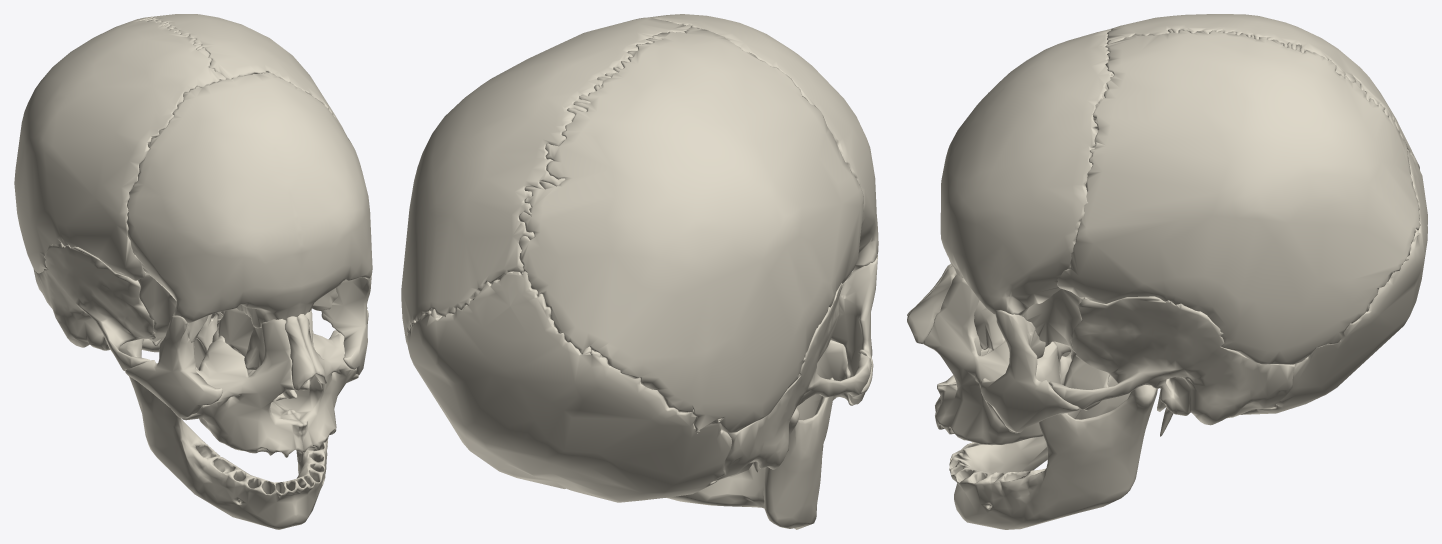
File: skull-z-detail.glb
3 renders of one model, left to right at view 1: azimuth 30°, elevation 25°; view 2: azimuth 150°, elevation 25°; view 3: azimuth 270°, elevation 25°, orthographic. The views are drawn at different scales.
Visible parts, largest first — view 1: b|frontal, b|parietal_right, b|mandible, b|maxilla_right, b|temporal_right, b|parietal_left, b|zygomatic_right, b|maxilla_left, b|sphenoid, b|zygomatic_left, b|nasal_right, b|ethmoid (+2 smaller); view 2: b|parietal_right, b|occipital, b|parietal_left, b|frontal, b|mandible, b|temporal_right, b|zygomatic_right, b|maxilla_right; view 3: b|parietal_left, b|frontal, b|temporal_left, b|mandible, b|maxilla_left, b|occipital, b|parietal_right, b|zygomatic_left, b|sphenoid, b|nasal_left, b|lacrimal_left.
Part boxes in pixels (bbox=[...]): b|frontal: bbox=[127, 72, 372, 328]; b|parietal_right: bbox=[14, 17, 226, 280]; b|mandible: bbox=[118, 308, 328, 529]; b|maxilla_right: bbox=[182, 319, 303, 457]; b|temporal_right: bbox=[33, 242, 155, 371]; b|parietal_left: bbox=[140, 14, 360, 166]; b|zygomatic_right: bbox=[125, 315, 222, 418]; b|maxilla_left: bbox=[273, 310, 358, 452]; b|sphenoid: bbox=[138, 272, 337, 369]; b|zygomatic_left: bbox=[321, 274, 371, 375]; b|nasal_right: bbox=[285, 316, 315, 390]; b|ethmoid: bbox=[218, 308, 261, 356]; b|parietal_right: bbox=[518, 27, 863, 433]; b|occipital: bbox=[407, 271, 731, 502]; b|parietal_left: bbox=[401, 17, 690, 344]; b|frontal: bbox=[648, 14, 878, 271]; b|mandible: bbox=[666, 377, 834, 529]; b|temporal_right: bbox=[714, 282, 871, 481]; b|zygomatic_right: bbox=[830, 255, 877, 404]; b|maxilla_right: bbox=[797, 340, 854, 420]; b|parietal_left: bbox=[1057, 29, 1420, 364]; b|frontal: bbox=[940, 29, 1114, 315]; b|temporal_left: bbox=[1049, 296, 1295, 436]; b|mandible: bbox=[949, 375, 1157, 529]; b|maxilla_left: bbox=[923, 274, 1060, 445]; b|occipital: bbox=[1240, 149, 1427, 414]; b|parietal_right: bbox=[1098, 14, 1419, 169]; b|zygomatic_left: bbox=[980, 310, 1079, 432]; b|sphenoid: bbox=[1022, 288, 1109, 410]; b|nasal_left: bbox=[907, 266, 956, 344]; b|lacrimal_left: bbox=[974, 300, 1005, 350].
Bounding box in the file's own units: 0.1487 × 0.2092 × 0.2036.
